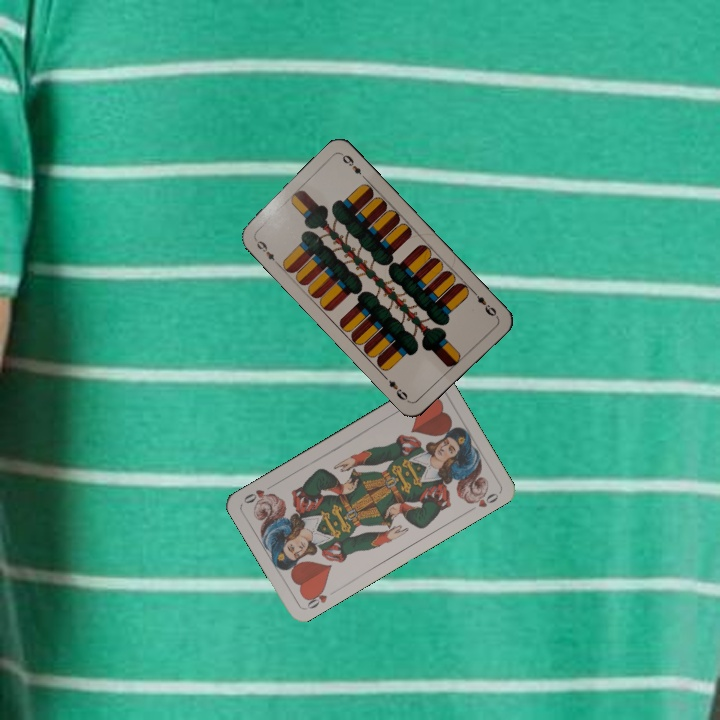E9: (250, 234, 281, 267), (469, 287, 499, 319)
HO: (301, 583, 339, 612)
